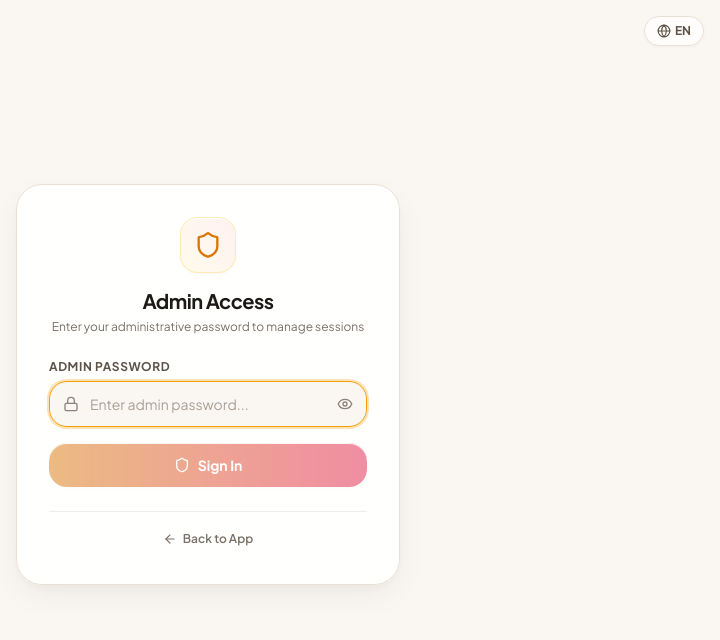
Admin UI Components (AdminPage) › handles lockout error (429) with wait countdown message
In the password field with placeholder "Enter admin password...": (208, 404) [49,380,367,426], type "wrongpass"
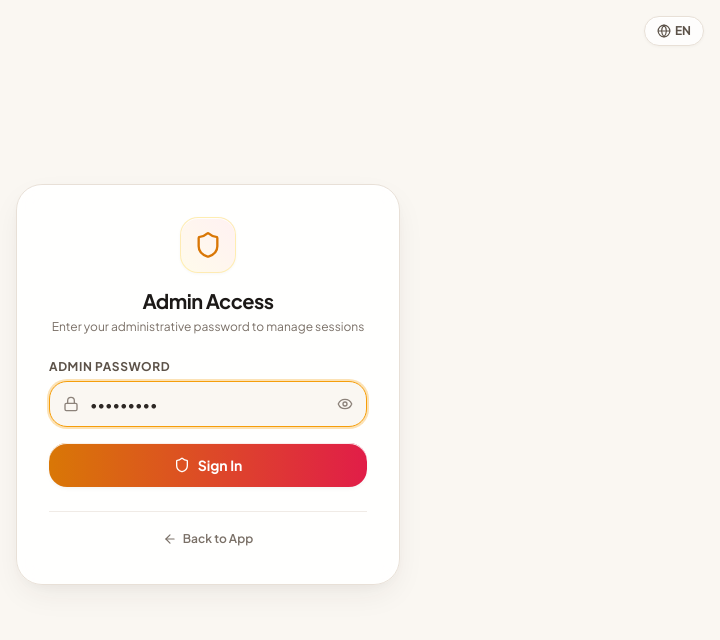
Click the button "Sign In": (208, 464) [49,442,367,486]
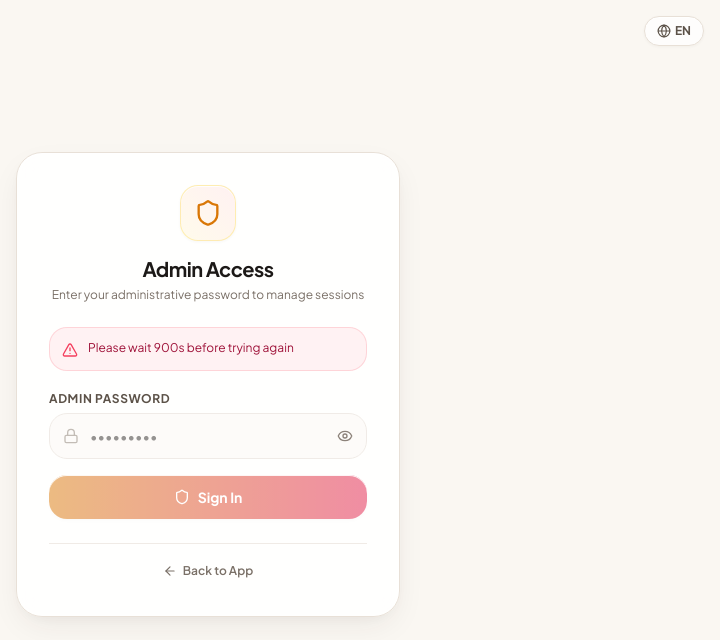
Result: the text "Please wait 900s before trying again" is shown at [88,340,294,354]
